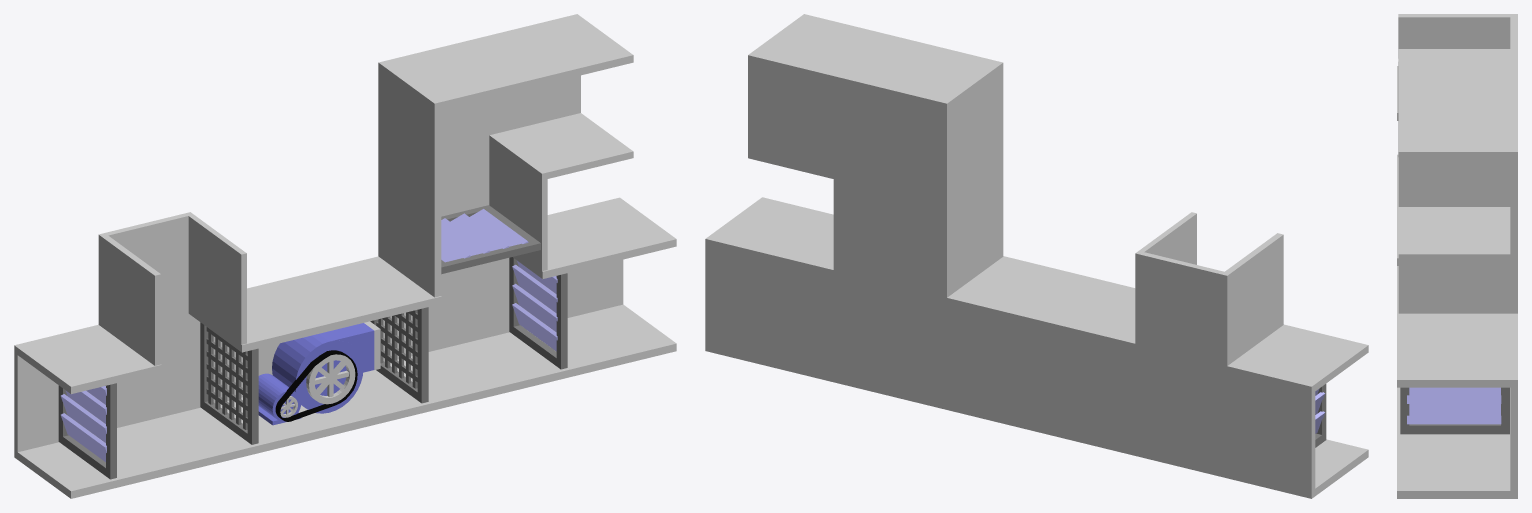
File: uma.glb
3 renders of one model, left to right at view 1: azimuth 30°, elevation 25°; view 2: azimuth 150°, elevation 25°; view 3: azimuth 270°, elevation 25°, orthographic. The views are drawn at different scales.
Parts seen in each view (by area): view 1: Cube.036, Cylinder, Cube.029, Cube.008, Cube.010, Cube.024, Cube.007, Cube.011, Cylinder.001, Cube.009, Cube.006, Cylinder.003 (+8 smaller); view 2: Cube.036; view 3: Cube.036, Cube.017, Cube.010, Cube.019.
Boxes of the visible parts, x1,y1,x2,y2 form: Cube.036: [14, 14, 676, 498]; Cylinder: [272, 323, 374, 413]; Cube.029: [206, 327, 247, 429]; Cube.008: [200, 322, 258, 444]; Cube.010: [509, 257, 567, 369]; Cube.024: [376, 310, 417, 388]; Cube.007: [58, 383, 116, 479]; Cube.011: [441, 205, 540, 274]; Cylinder.001: [306, 354, 355, 404]; Cube.009: [370, 307, 428, 403]; Cube.006: [258, 373, 301, 425]; Cylinder.003: [275, 350, 357, 421]; Cube.036: [705, 14, 1368, 498]; Cube.036: [1397, 14, 1517, 498]; Cube.017: [1407, 404, 1501, 424]; Cube.010: [1400, 387, 1509, 434]; Cube.019: [1407, 387, 1501, 403].
Bounding box in the file's own units: 17.81 × 8.6 × 2.9.
